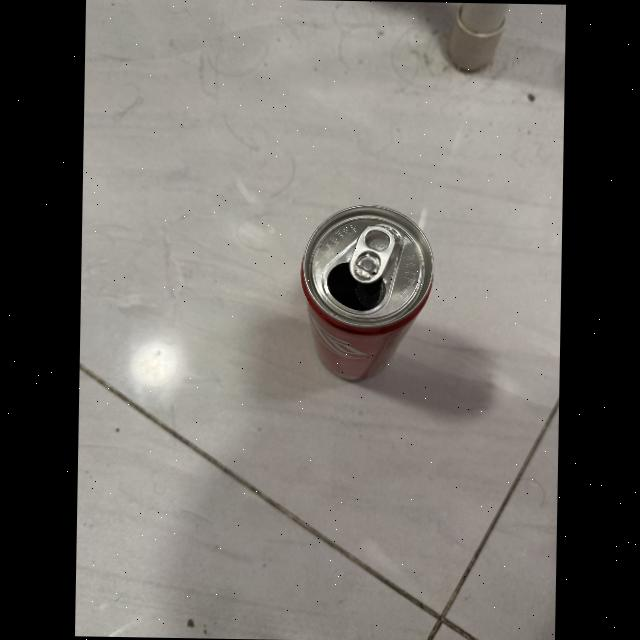Cola: (284, 184, 443, 396)
